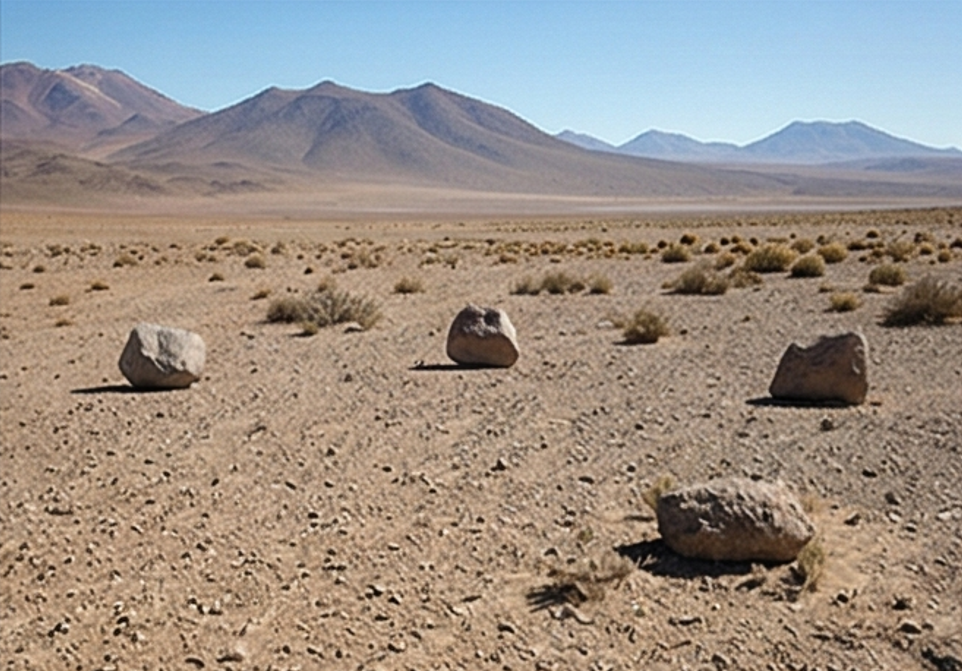rocks: (653, 478, 815, 561), (769, 333, 867, 404), (120, 323, 205, 388), (446, 305, 519, 367)
